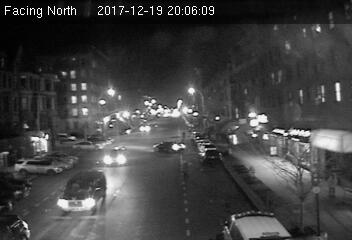car: (102, 146, 129, 166)
police: (215, 208, 298, 240)
truck: (56, 171, 107, 213)
